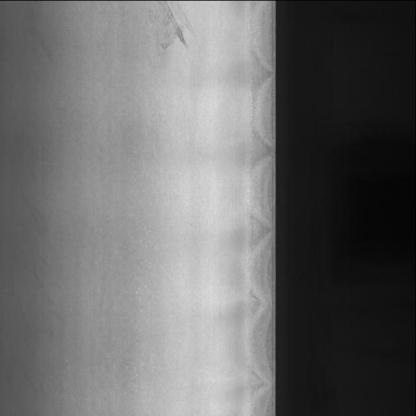water_spot: (156, 1, 191, 70)
